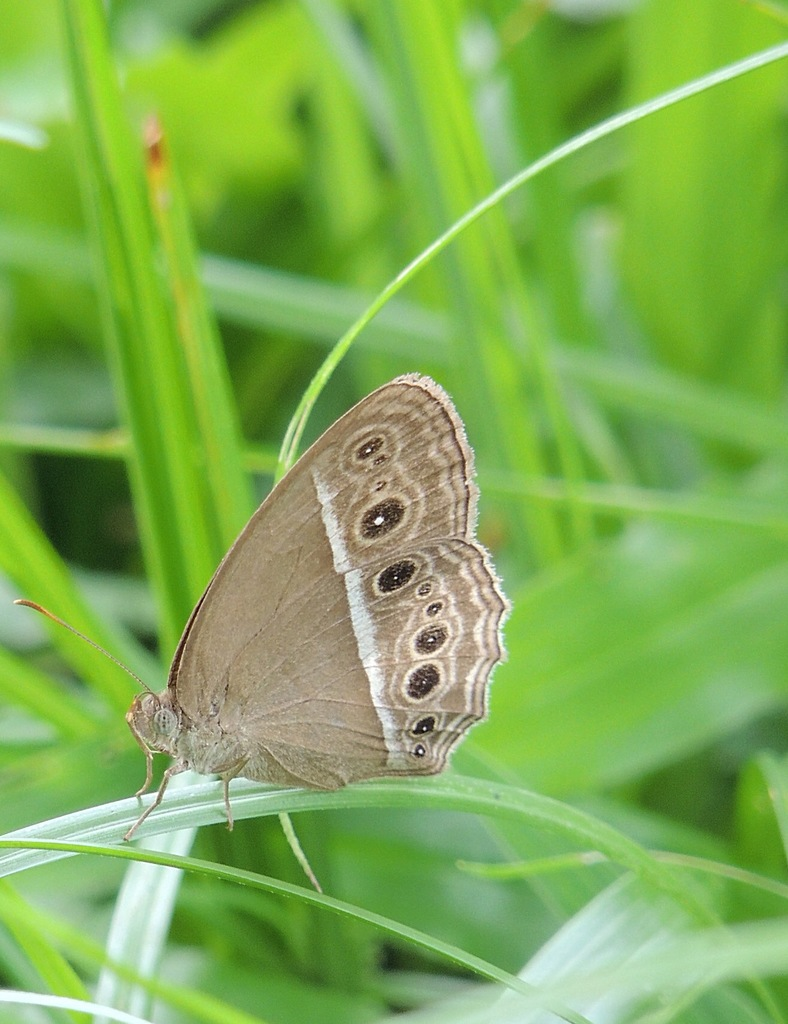Butterfly: (90, 362, 538, 837)
